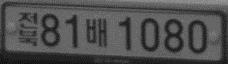0: (186, 19, 208, 54), (139, 17, 159, 51)
1: (63, 11, 80, 49), (117, 14, 132, 52)
8: (163, 17, 184, 53), (40, 12, 61, 47)
배: (85, 16, 109, 48)
전북_V: (16, 10, 39, 48)
